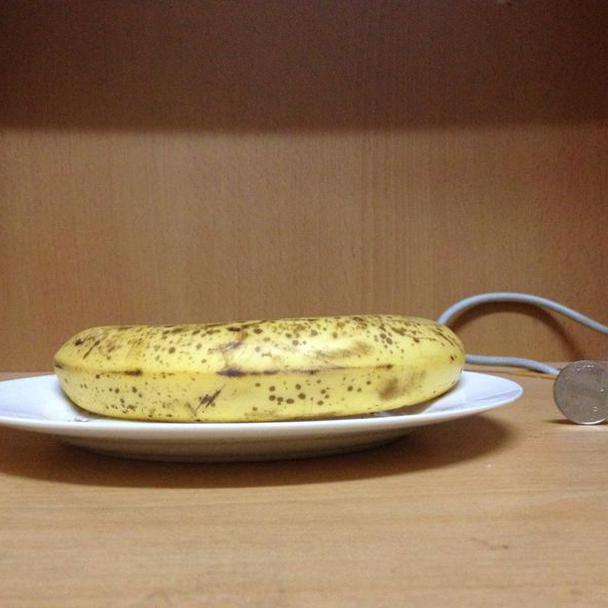banana: (53, 316, 472, 422)
